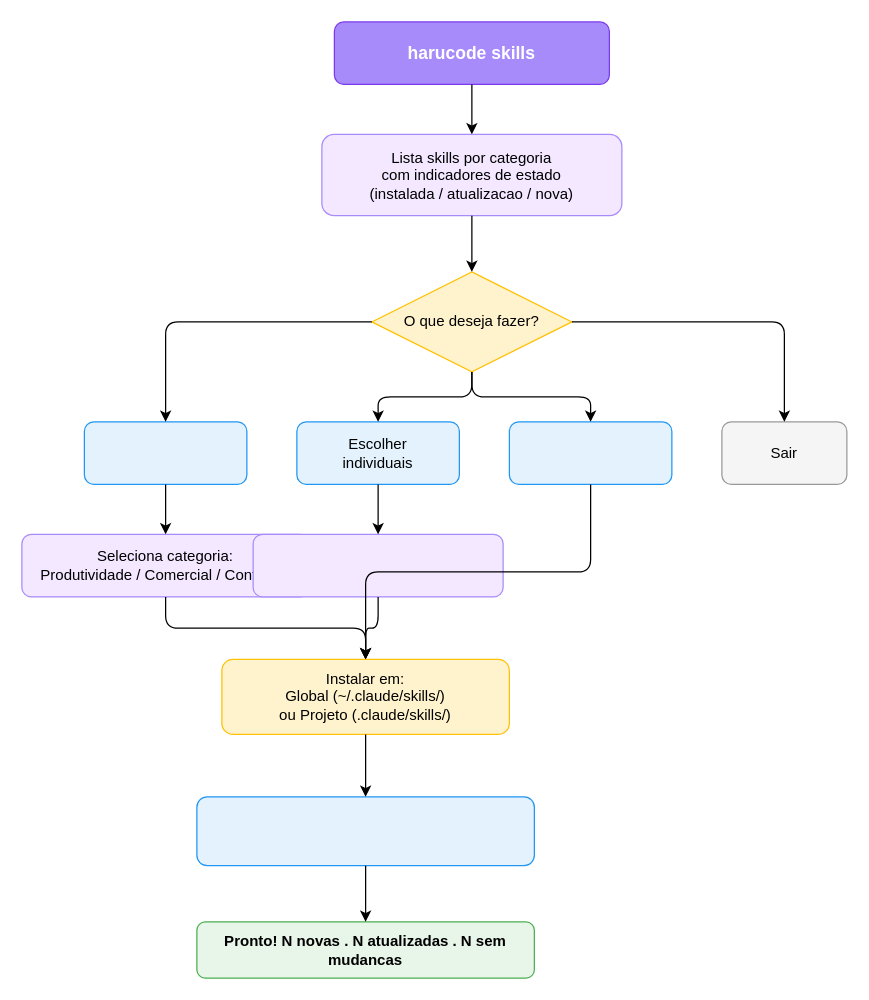
This 869x1000 diagram has some shape labels left out. The shapes that lost their labels are listed below. From the top down, each one's box as (x1, y1, x2, y2) in pixels, then its label:
(83, 421, 247, 484): Instalar por categoria
(508, 421, 672, 484): Atualizar pendentes
(252, 533, 503, 597): Multi-select: marca skills desejadas
(196, 796, 534, 866): Instala cada skill: + nova | upd atualizada | skip atual | skip modificada
